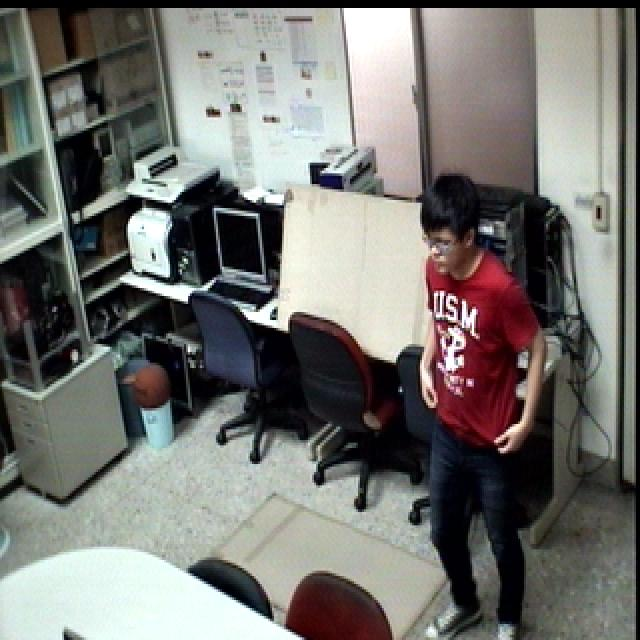stand: (403, 158, 558, 640)
